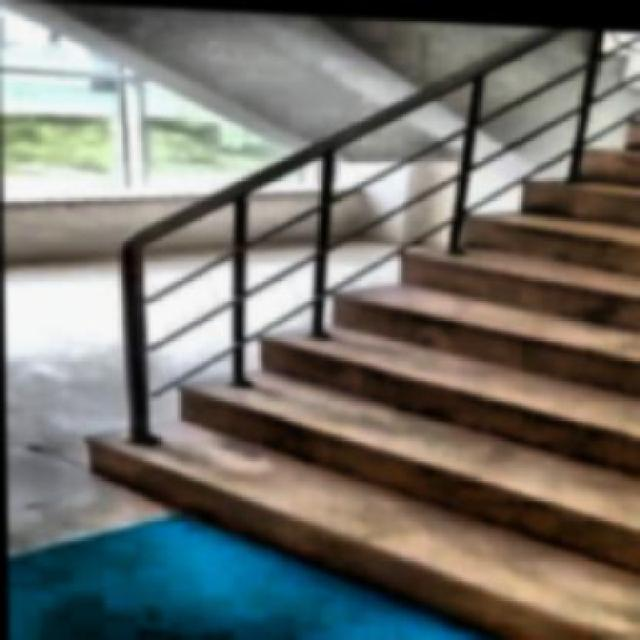stair: (29, 36, 638, 638)
